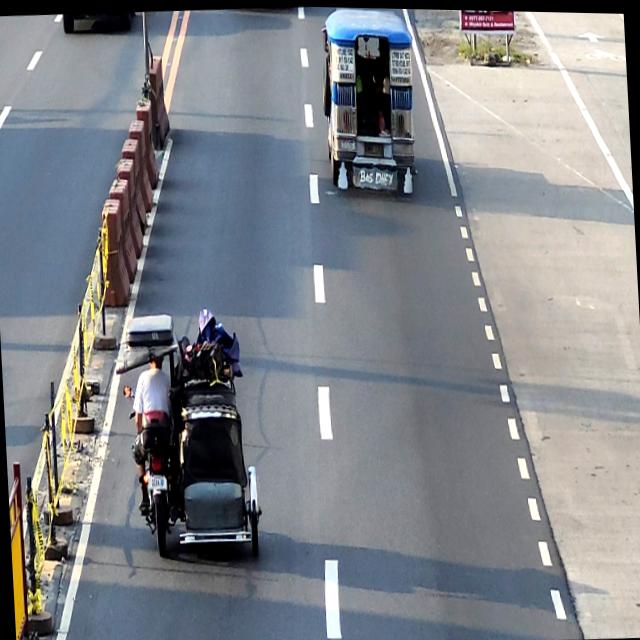Jeep: (320, 6, 420, 200)
License-Plate: (364, 140, 384, 157), (147, 474, 167, 490)
Tricycle: (120, 309, 264, 565)
